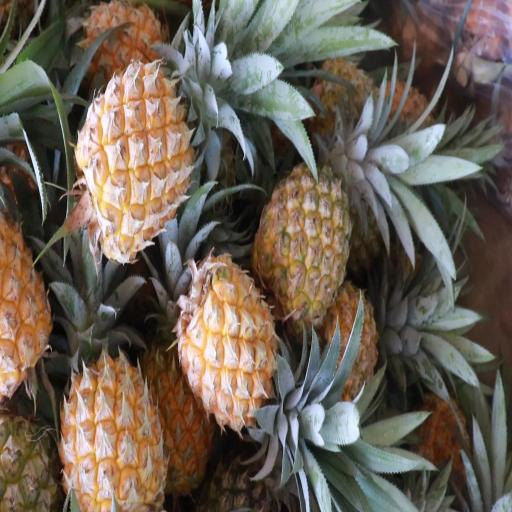------------------------------: (258, 150, 350, 312)
Pineapple - v8 v1: (79, 65, 191, 256), (63, 354, 164, 512), (178, 261, 275, 417), (145, 344, 217, 494)
